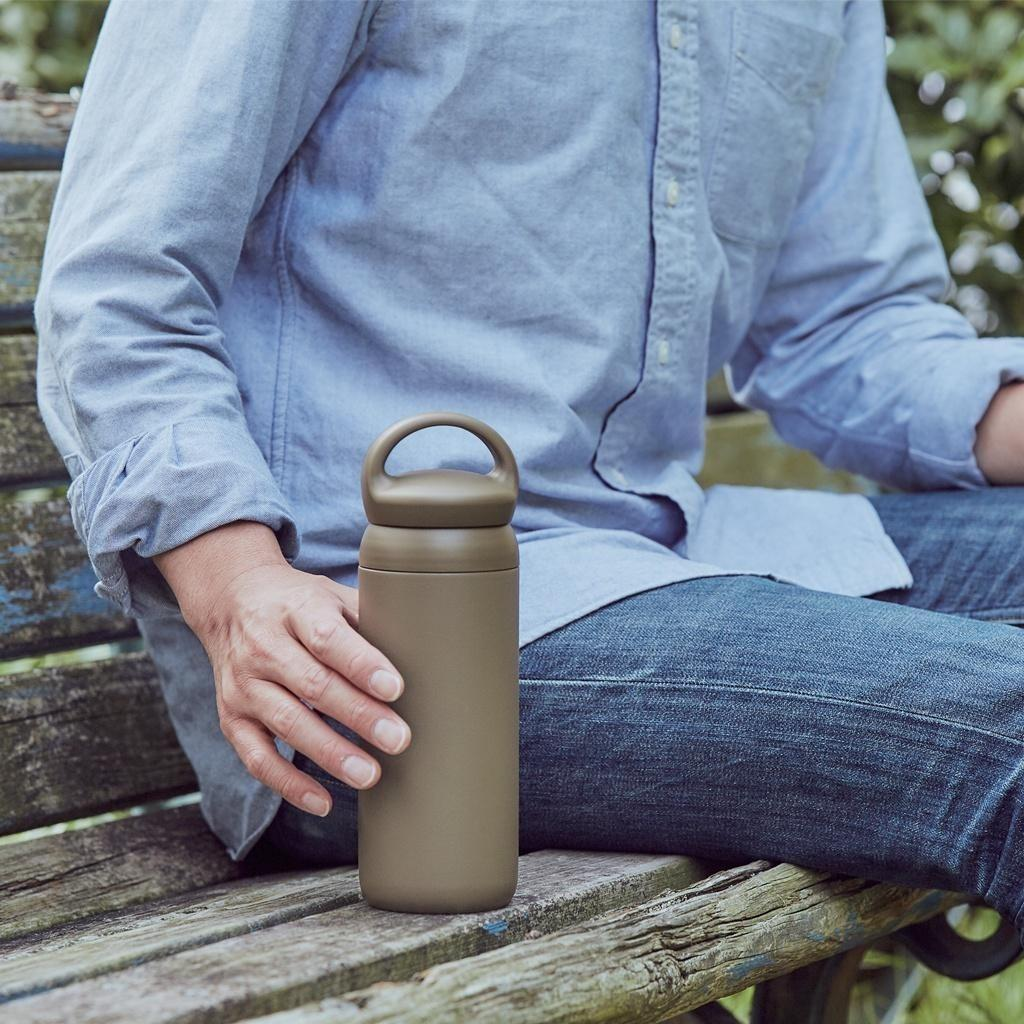gym bottle: (352, 412, 532, 918)
